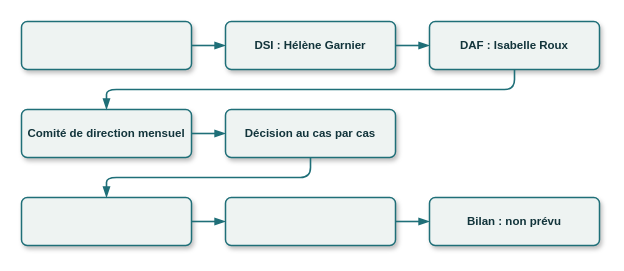
Image size: 624x271. Some labels were removed from this diagram. The shapes that lost their labels are listed below. From the top down, each one's centre as x and y in pixels, then its label:
At [107,46]: "Demande par courriel ou à l'oral".
At [107,222]: "Projet décidé".
At [311,222]: "Suivi : aucun tableau de bord".
